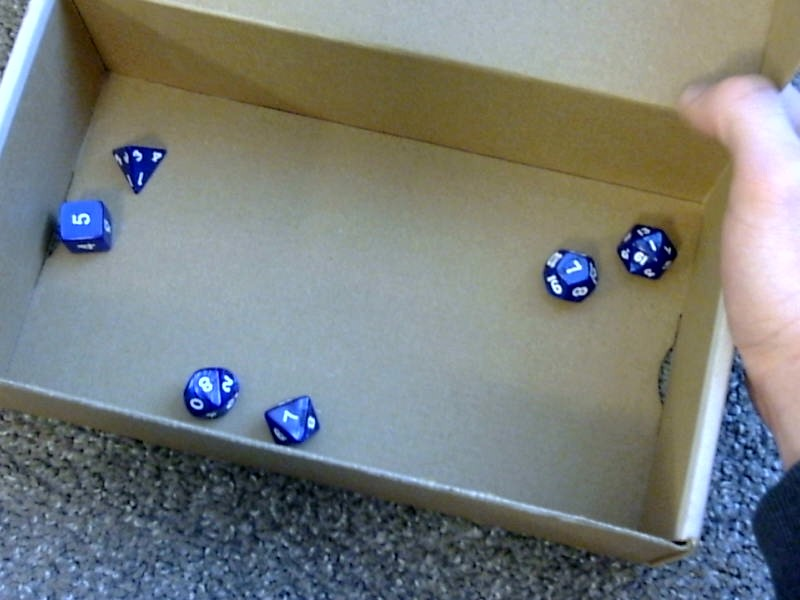d10 8: (179, 362, 242, 424)
d12 7: (540, 243, 599, 307)
d20 1: (613, 213, 679, 282)
d4 3: (105, 143, 167, 198)
d6 5: (51, 197, 118, 260)
d8 7: (256, 388, 324, 449)
